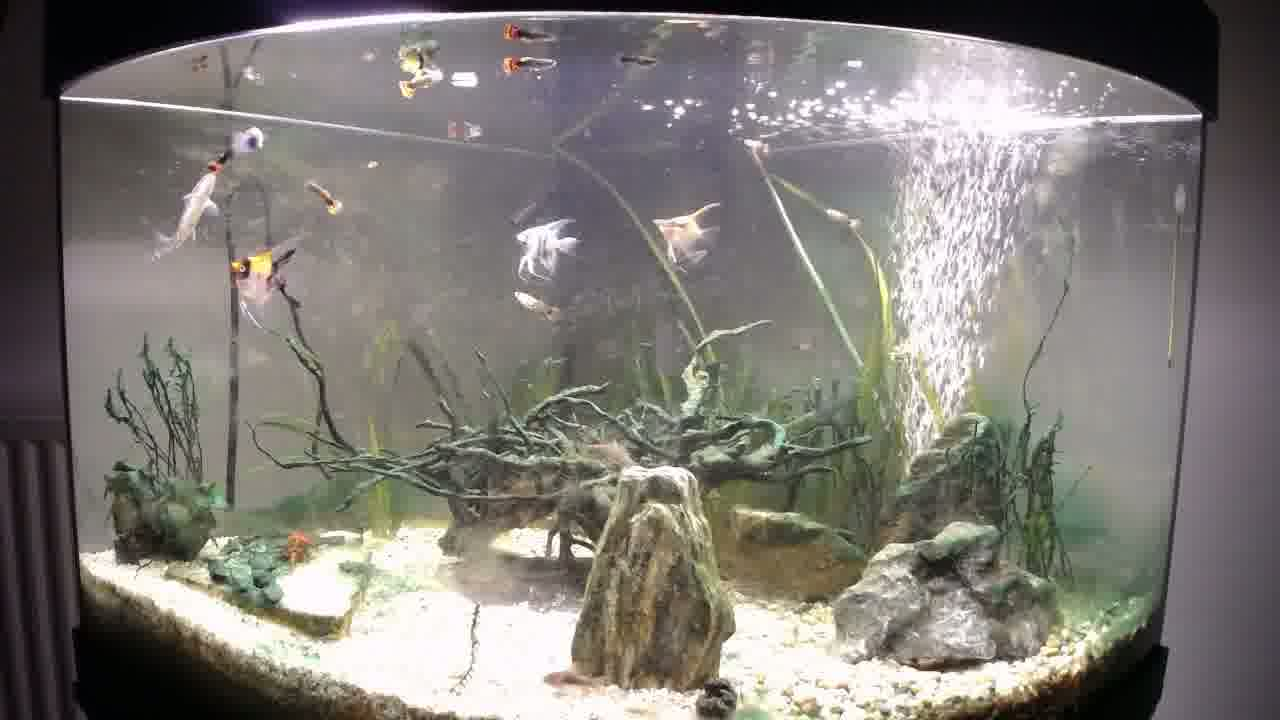Ancistrus: (272, 523, 325, 573)
Botia_Almorhae: (155, 173, 219, 249)
Botia_Striata: (588, 437, 636, 474)
Corydoras_Panda: (537, 663, 621, 700)
G_Matriarche: (225, 122, 269, 160)
Pterophyllum_Scalare_BB: (510, 213, 584, 285)
Pterophyllum_Scalare_Y: (652, 199, 725, 271)
Pterophyllum_Scalare_YWB: (228, 236, 307, 333)
